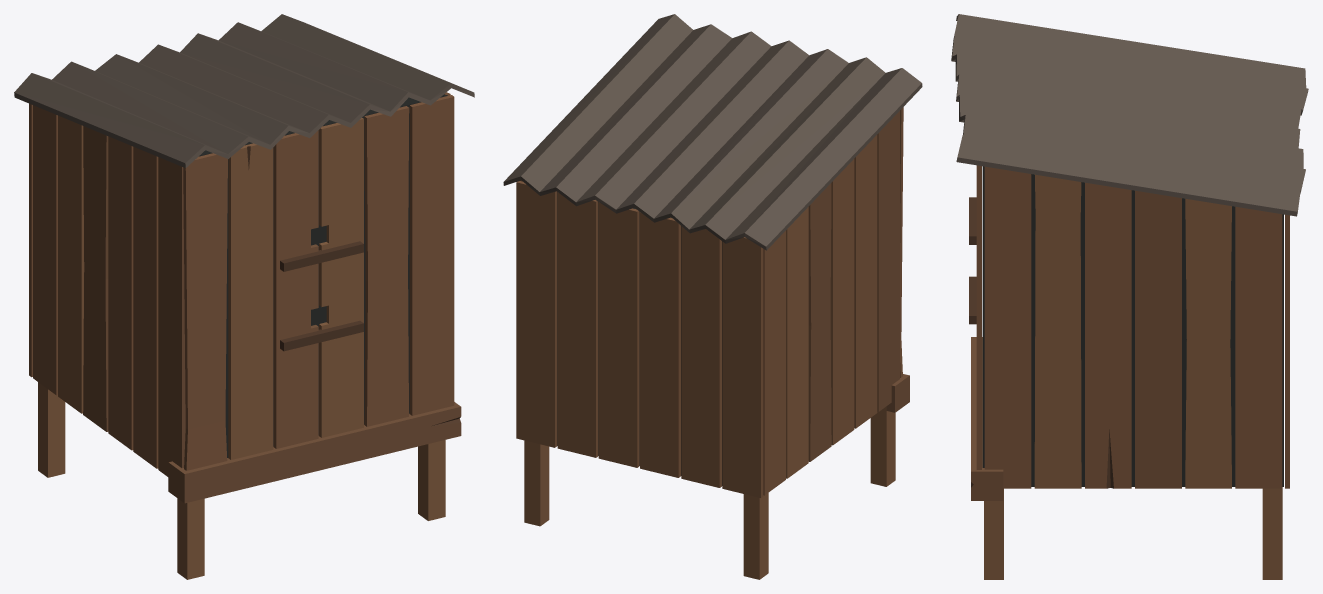
File: Mesh_Props_BeeHive_01.obj
3 renders of one model, left to right at view 1: azimuth 30°, elevation 25°; view 2: azimuth 150°, elevation 25°; view 3: azimuth 270°, elevation 25°, orthographic. The views are drawn at different scales.
Visible parts, largest first — view 1: Mesh_Props_BeeHive_01_M_LowPolyFarm_MAIN; view 2: Mesh_Props_BeeHive_01_M_LowPolyFarm_MAIN; view 3: Mesh_Props_BeeHive_01_M_LowPolyFarm_MAIN.
Boxes of the visible parts, x1,y1,x2,y2 form: Mesh_Props_BeeHive_01_M_LowPolyFarm_MAIN: (14, 14, 474, 579); Mesh_Props_BeeHive_01_M_LowPolyFarm_MAIN: (503, 14, 922, 579); Mesh_Props_BeeHive_01_M_LowPolyFarm_MAIN: (951, 14, 1308, 579).
Bounding box in the file's own units: 0.6459 × 0.9446 × 0.6919.
Materials: 1 (1 with a texture image).
